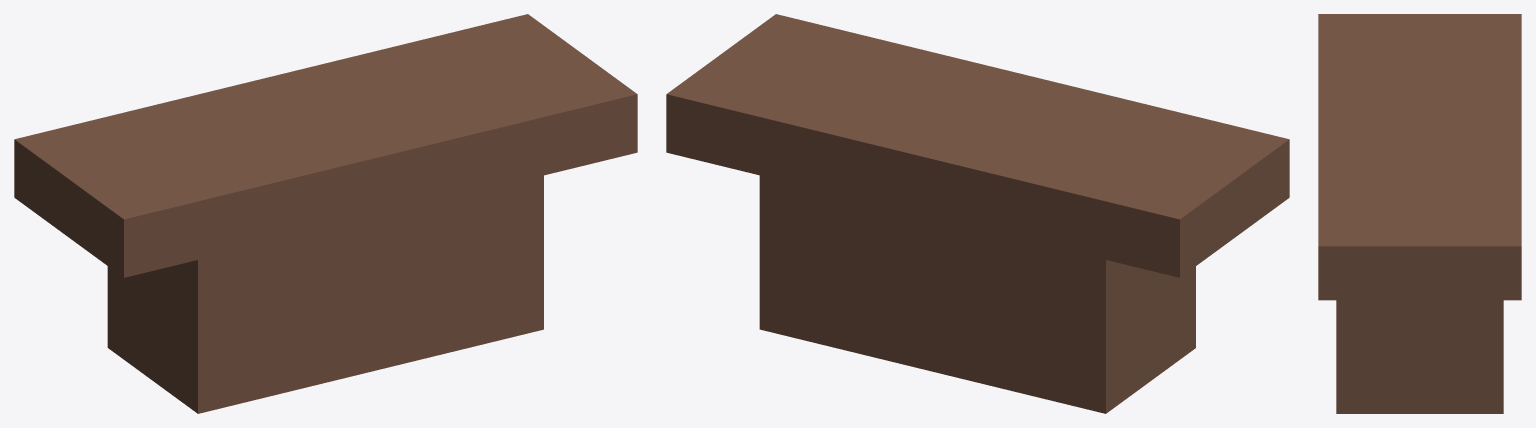
File: template-head-accessory- (2).glb
The picture shows the model from 3 angles, left to right: view 1: azimuth 30°, elevation 25°; view 2: azimuth 150°, elevation 25°; view 3: azimuth 270°, elevation 25°; orthographic projection. The views are drawn at different scales.
Visible parts, largest first — view 1: TEMPLATE_replace_mesh; view 2: TEMPLATE_replace_mesh; view 3: TEMPLATE_replace_mesh.
Part boxes in pixels (x1,y1,x2,y2): TEMPLATE_replace_mesh: (14, 14, 637, 413); TEMPLATE_replace_mesh: (666, 14, 1289, 413); TEMPLATE_replace_mesh: (1318, 14, 1521, 413).
Bounding box in the file's own units: 0.92 × 0.38 × 0.34.
